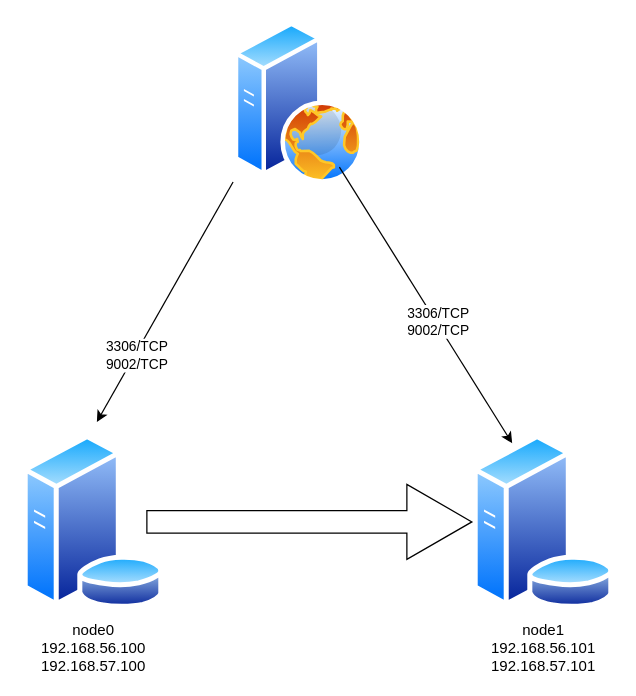
Some shapes in this 636 by 696 pixel diagram are drawn without their labels. Here are the shapes that lost their labels. From the top down, the centre of each, then its label:
At [299,102]: "loadb0 192.168.56.110 192.168.57.110".
At [309,521]: "REPLICATION".
